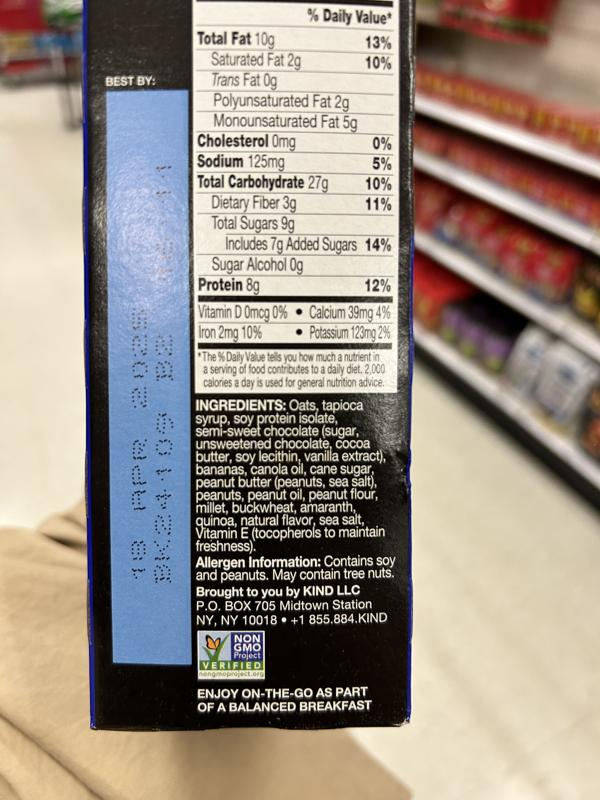ingredients: (192, 397, 390, 554)
